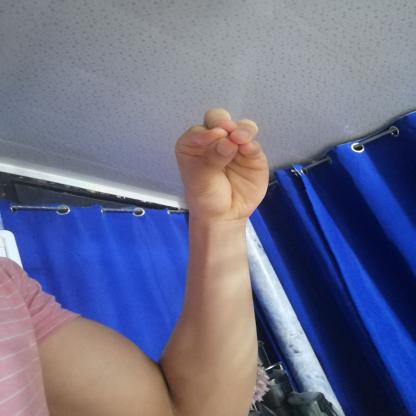HA: (148, 93, 303, 239)
